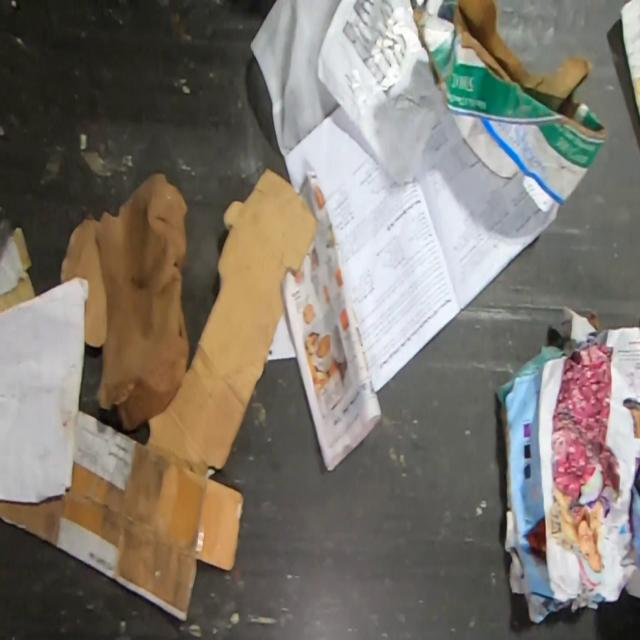cardboard: (147, 163, 319, 480), (0, 405, 247, 623), (408, 0, 610, 215), (0, 279, 87, 502), (0, 216, 36, 313)
